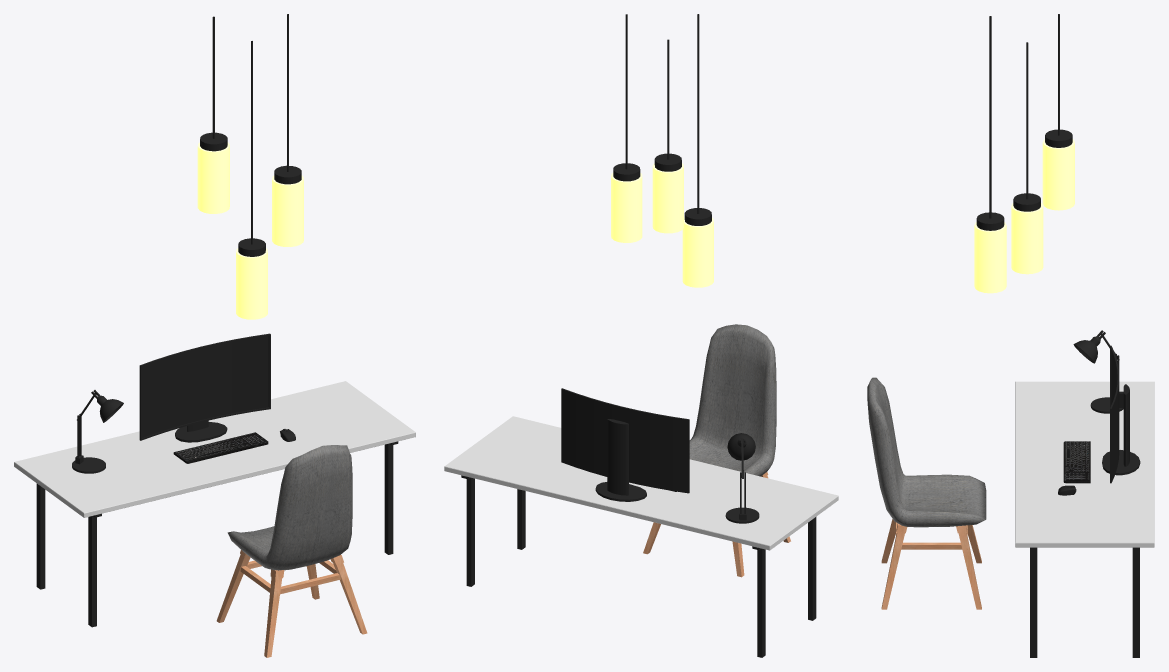
File: office2.gltf
3 views of the same model, side by side, from view 1: azimuth 30°, elevation 25°; view 2: azimuth 150°, elevation 25°; view 3: azimuth 270°, elevation 25° (orthographic).
Visible parts, largest first — view 1: Desk, Chair1, Monitor, Light2, Keyboard, Lamp1; view 2: Desk, Chair1, Monitor, Light2, Lamp1; view 3: Desk, Chair1, Light2, Monitor, Keyboard, Lamp1.
Part boxes in pixels (x1=…): Desk: x1=14, y1=381, x2=415, y2=627; Chair1: x1=216, y1=445, x2=367, y2=657; Monitor: x1=139, y1=333, x2=270, y2=442; Light2: x1=197, y1=14, x2=303, y2=319; Keyboard: x1=173, y1=432, x2=268, y2=463; Lamp1: x1=72, y1=390, x2=123, y2=473; Desk: x1=444, y1=416, x2=838, y2=657; Chair1: x1=643, y1=324, x2=790, y2=577; Monitor: x1=561, y1=388, x2=689, y2=501; Light2: x1=611, y1=14, x2=713, y2=287; Lamp1: x1=725, y1=433, x2=759, y2=523; Desk: x1=1015, y1=381, x2=1154, y2=657; Chair1: x1=867, y1=377, x2=986, y2=609; Light2: x1=974, y1=14, x2=1074, y2=293; Monitor: x1=1102, y1=345, x2=1140, y2=483; Keyboard: x1=1063, y1=441, x2=1090, y2=483; Lamp1: x1=1073, y1=330, x2=1123, y2=413.
Bounding box in the file's own units: 249 × 407 × 188.
Materials: 8 (4 with a texture image).
